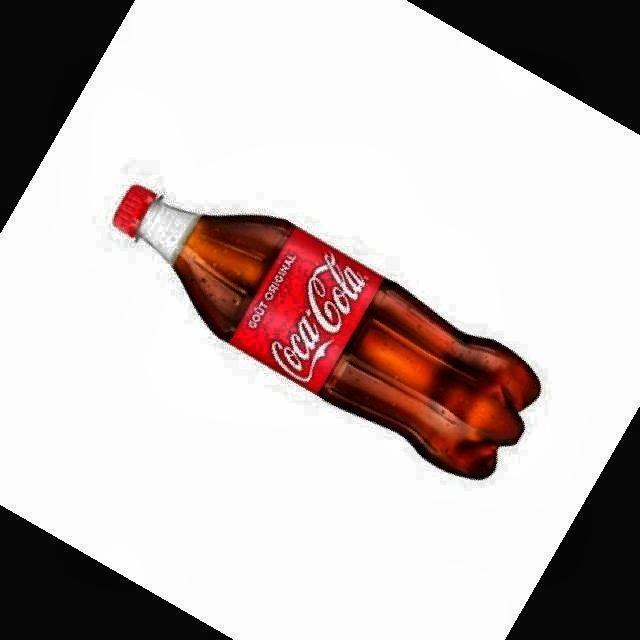plastic: (114, 185, 540, 478)
